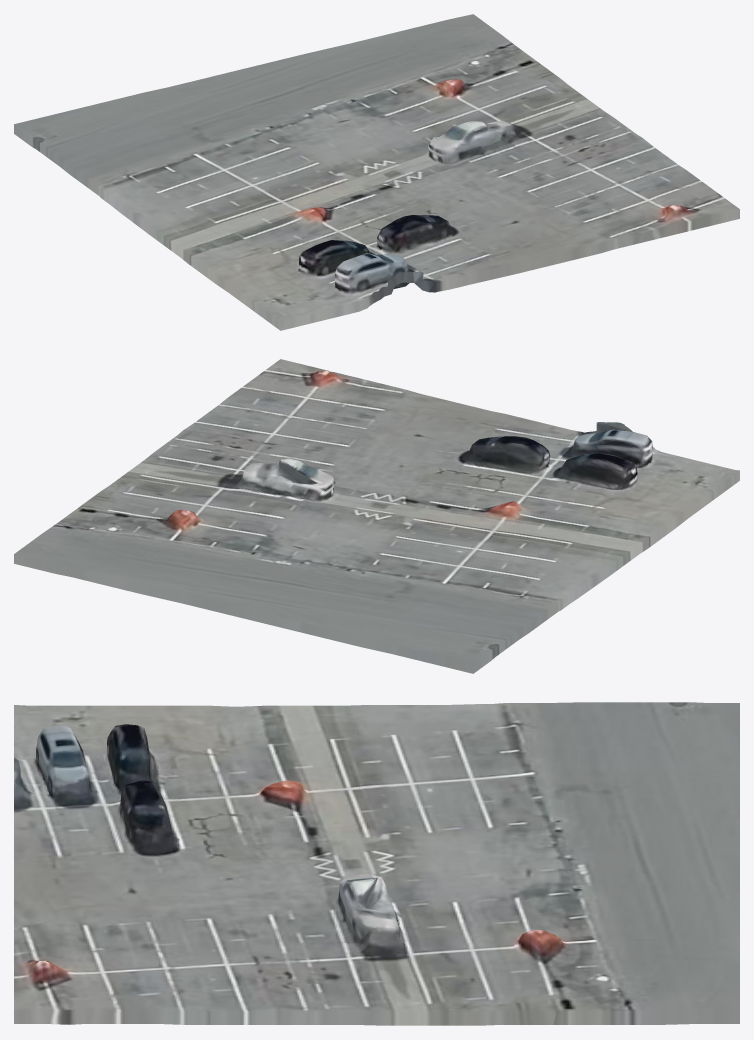
File: z20-167771-405199-h0-yup-uvflip-v3-world.glb
The picture shows the model from 3 angles, top to bottom: view 1: azimuth 30°, elevation 25°; view 2: azimuth 150°, elevation 25°; view 3: azimuth 270°, elevation 25°; orthographic projection. The views are drawn at different scales.
Bounding box in the file's own units: 30.16 × 2.32 × 30.32.
1 material, 1 textured.
